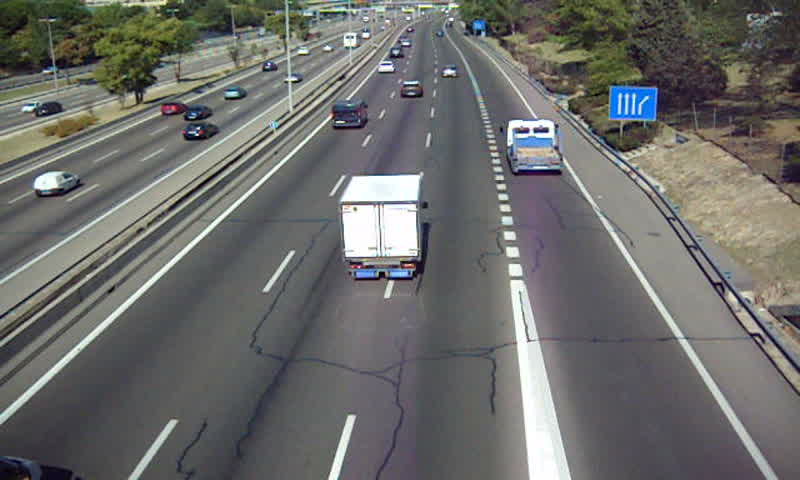car: (399, 80, 424, 102), (376, 60, 395, 76), (442, 64, 459, 78)
small-truck: (339, 175, 424, 278), (506, 118, 562, 173)
van: (331, 100, 366, 127)
